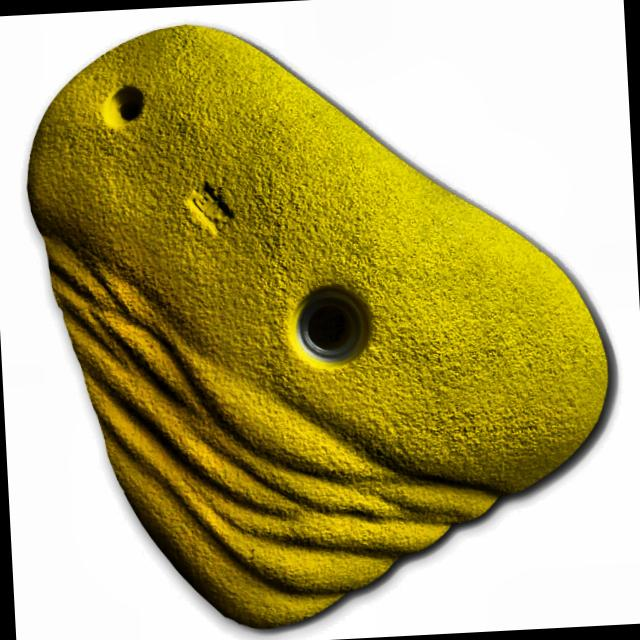Hold: (19, 0, 636, 631)
